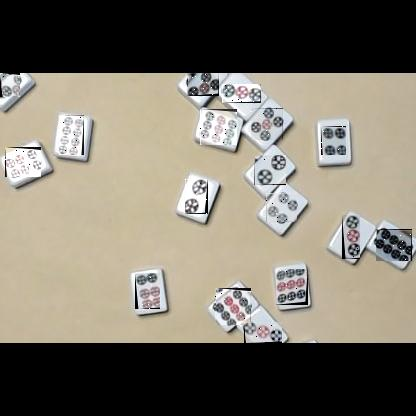2p: (254, 155, 286, 185), (185, 179, 208, 214)
3p: (244, 322, 282, 343), (342, 215, 360, 259), (222, 84, 261, 103)
4p: (266, 193, 297, 222), (321, 126, 346, 155)
5p: (251, 108, 283, 140), (187, 73, 219, 96), (0, 73, 20, 97)
6p: (5, 147, 41, 177), (135, 273, 160, 309)
8p: (376, 229, 412, 261), (59, 115, 84, 155)
9p: (200, 109, 237, 145), (215, 288, 251, 325), (276, 269, 308, 305)
